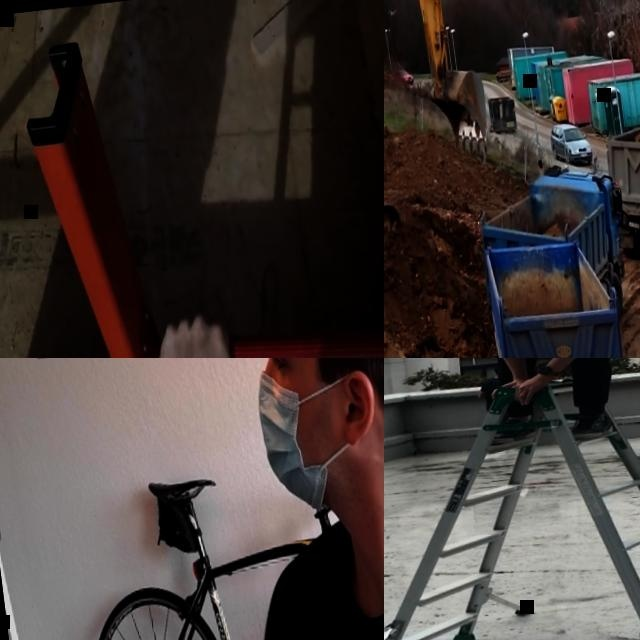Mask: (252, 358, 363, 524)
Person: (170, 358, 384, 640), (448, 358, 640, 452), (92, 309, 256, 358)
machinery: (384, 0, 504, 285), (475, 161, 637, 336), (479, 230, 634, 358), (601, 96, 640, 272)
vehicle: (549, 119, 594, 169), (391, 64, 413, 86)
